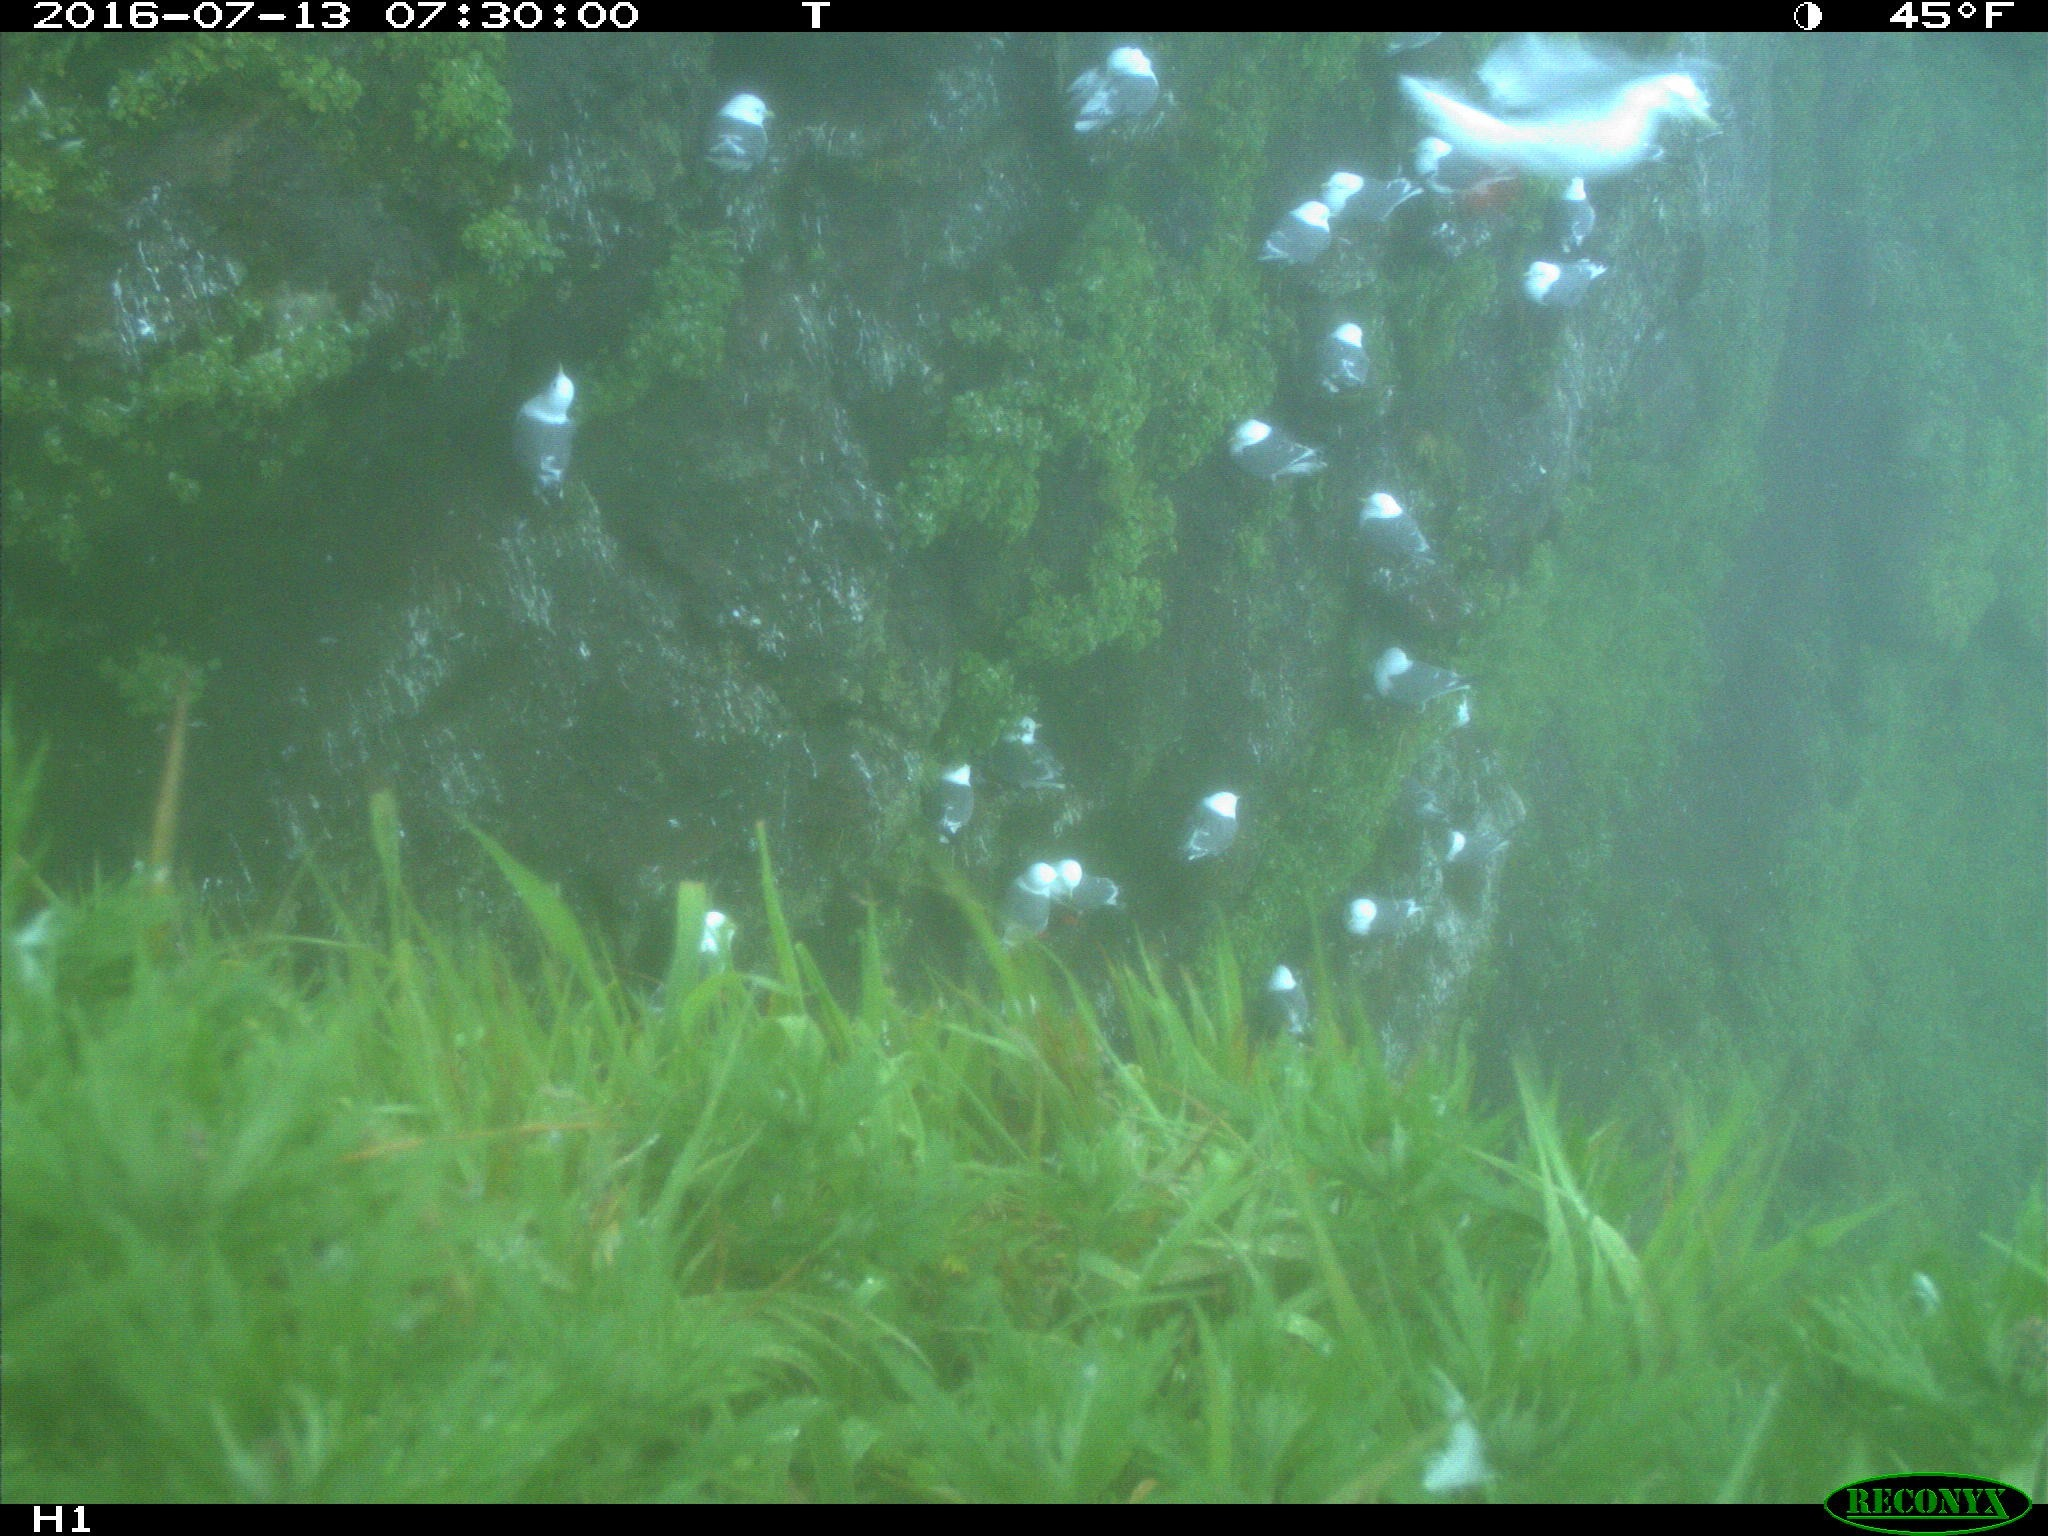Kittiwake: (1355, 45, 1784, 221), (468, 298, 605, 520), (681, 66, 822, 211), (1400, 750, 1534, 883), (1188, 395, 1345, 508), (1039, 39, 1197, 148), (1308, 145, 1450, 260), (1359, 615, 1500, 729), (1226, 939, 1355, 1063), (1350, 453, 1455, 600), (1150, 762, 1263, 889), (1405, 116, 1517, 242), (1334, 863, 1450, 979), (1488, 239, 1621, 332), (1288, 311, 1414, 408), (985, 695, 1089, 807), (992, 847, 1076, 971), (1256, 179, 1355, 281), (926, 741, 997, 876), (1040, 849, 1137, 937), (681, 892, 742, 992)
